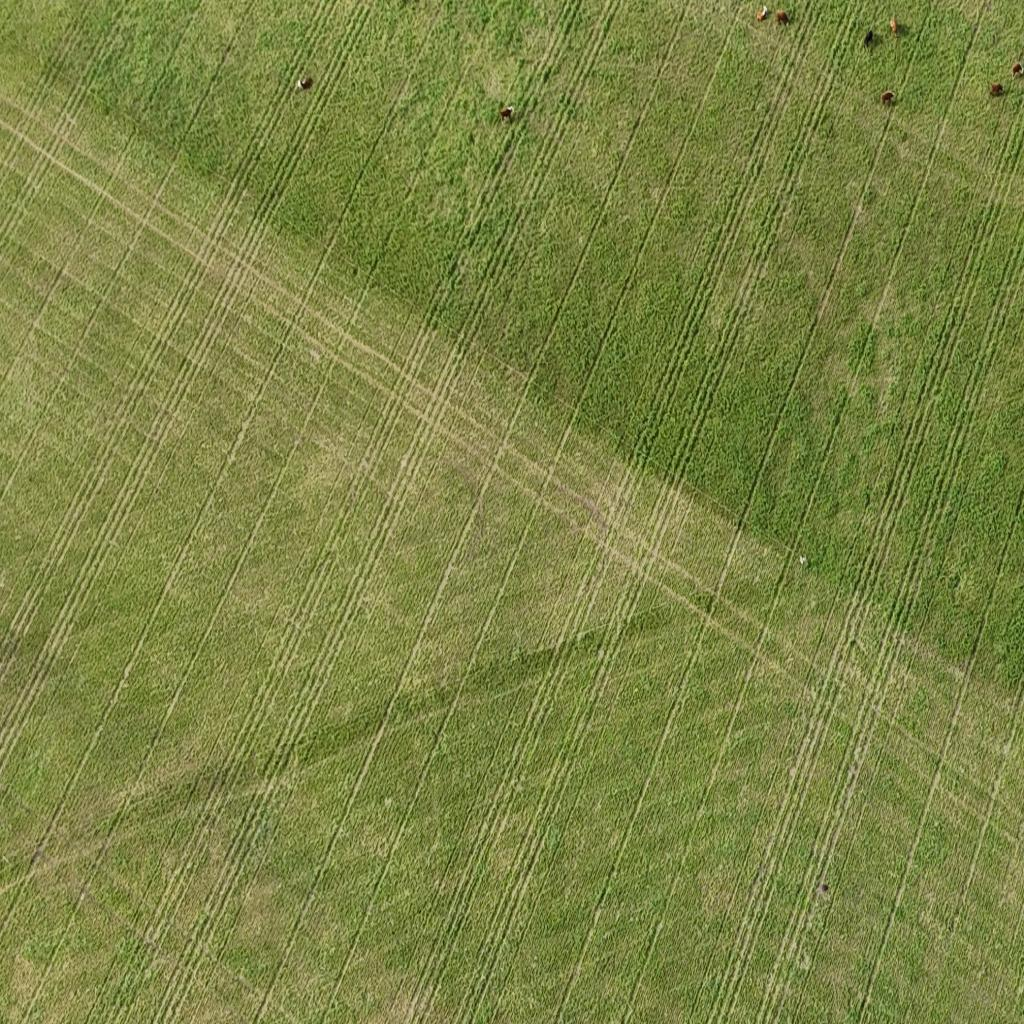cow: (294, 74, 314, 97), (497, 104, 516, 126), (863, 25, 877, 51), (992, 78, 1009, 96), (882, 87, 896, 106), (757, 3, 768, 22), (776, 10, 789, 26), (889, 16, 898, 36), (1017, 62, 1024, 78)
